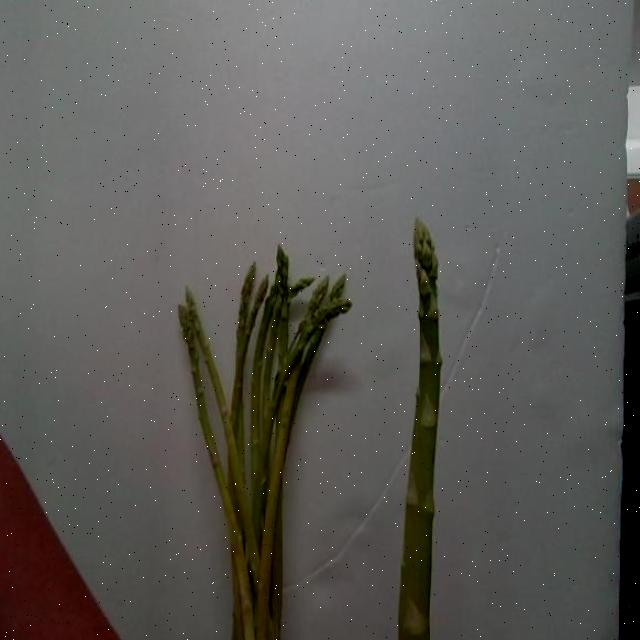aspargus: (399, 220, 445, 640)
